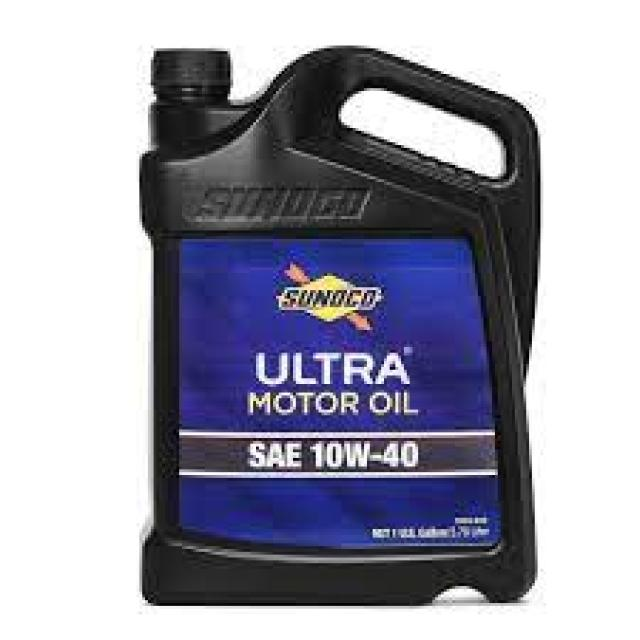motor_oil: (138, 41, 546, 617)
